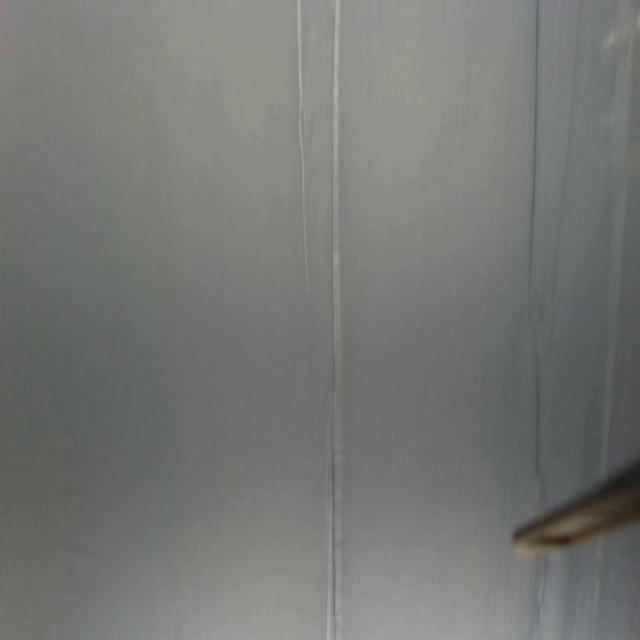crease: (326, 0, 344, 640), (550, 0, 583, 326), (294, 2, 316, 337), (528, 0, 542, 283), (528, 359, 543, 474)
